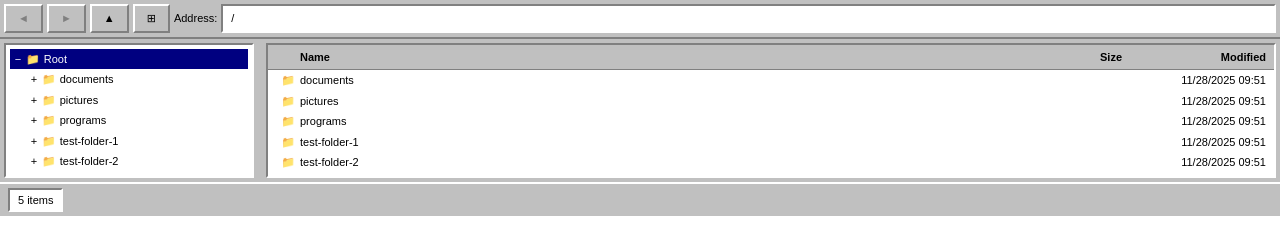
Scenario: Explorer - Navigation History Management › should truncate forward history when navigating to new path
The image size is (1280, 233).
# Navigate to folder 1 - get from file list (second occurrence)
Double-click the text "test-folder-1" below "Name": (329, 142) [300, 136, 359, 148]
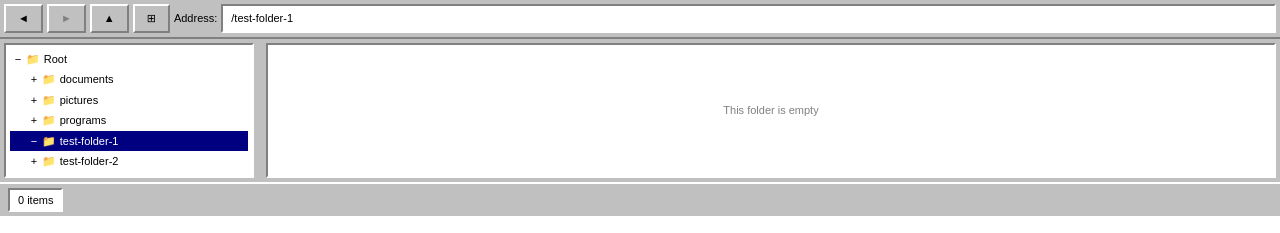
Check: the field named "Address bar" holds "/test-folder-1", box [221, 4, 1276, 32]
# Navigate back
Click the button named "Back": (23, 18) [4, 4, 43, 32]
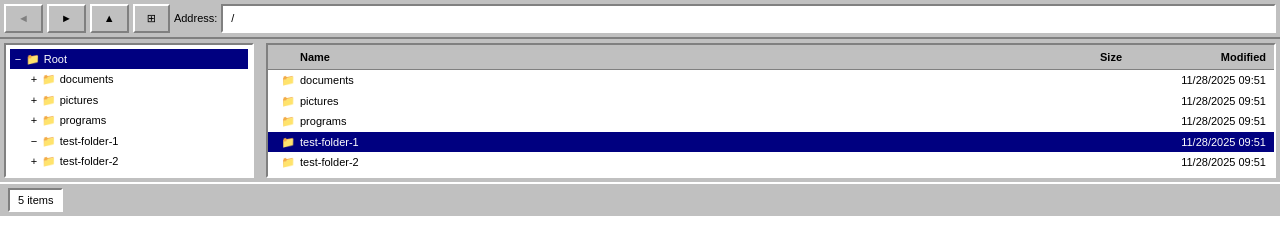
Check: the field named "Address bar" holds "/", box [221, 4, 1276, 32]
# Navigate to folder 2 (should truncate forward history) - get from file list (second occurrence)
Double-click the text "test-folder-2" below "Name": (329, 162) [300, 156, 359, 168]
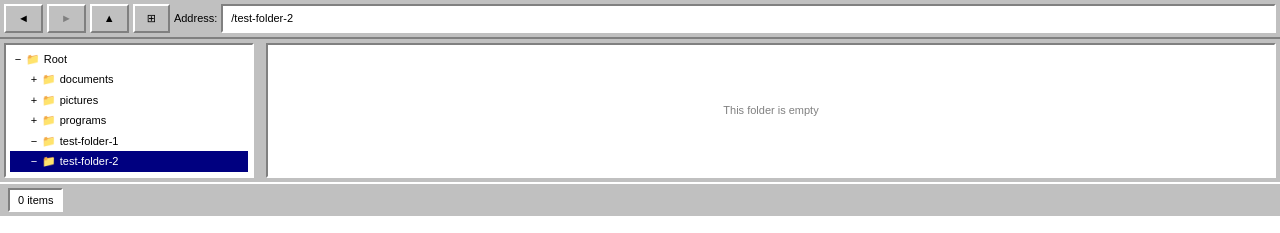
Check: the button named "Forward" is disabled, box [47, 4, 86, 32]
Check: the field named "Address bar" holds "/test-folder-2", box [221, 4, 1276, 32]
